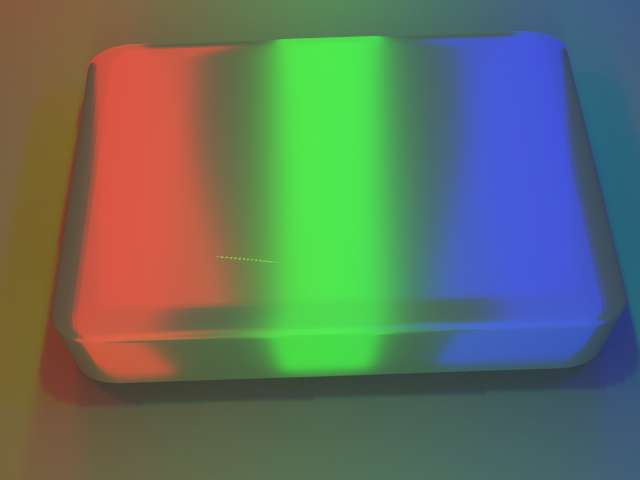scratch: (132, 204, 336, 325)
